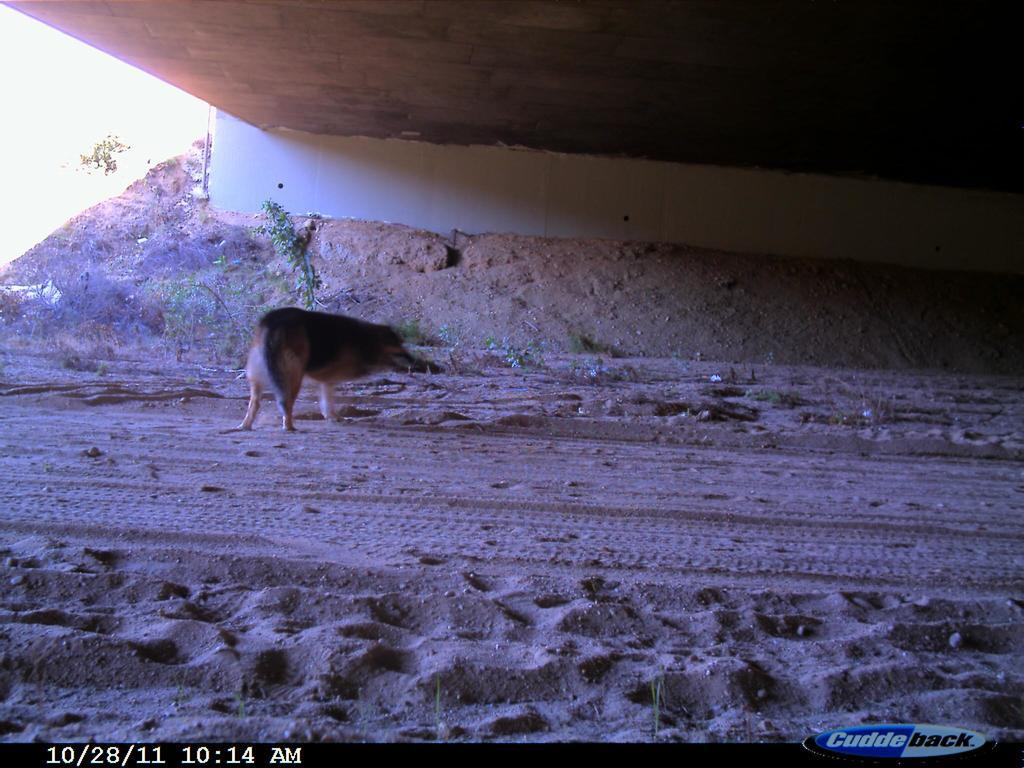dog: (208, 264, 445, 461)
